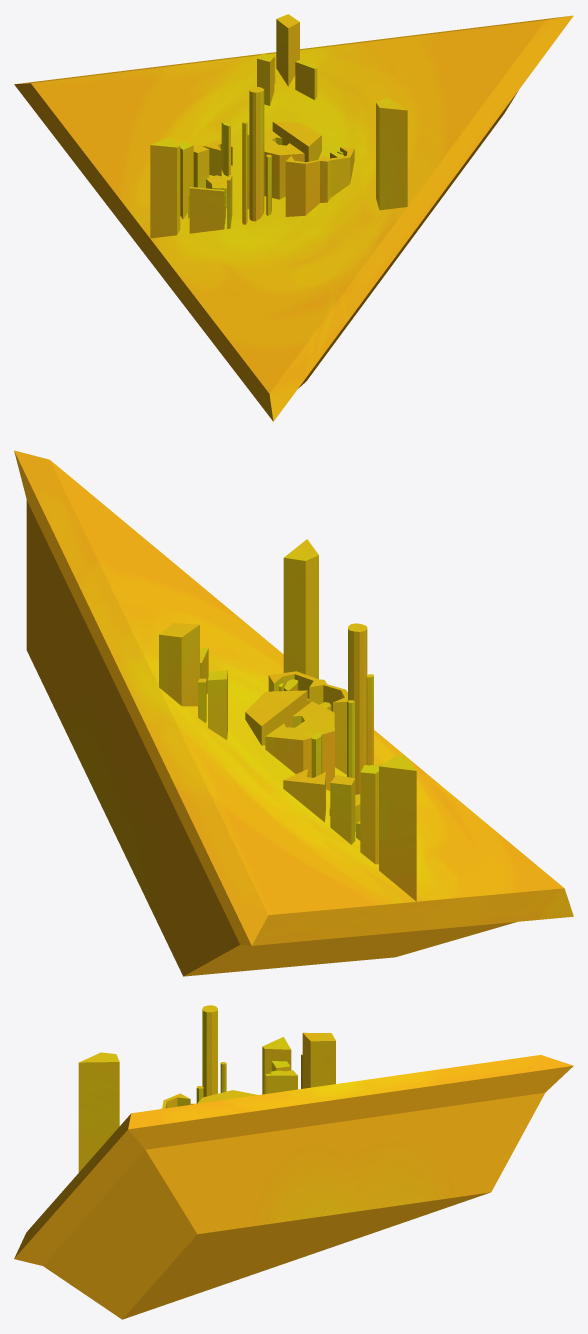
Rendered from city.glb.
3 renders of one model, top to bottom at view 1: azimuth 30°, elevation 25°; view 2: azimuth 150°, elevation 25°; view 3: azimuth 270°, elevation 25°, orthographic. The views are drawn at different scales.
Visible parts, largest first — view 1: city-col; view 2: city-col; view 3: city-col.
Boxes of the visible parts, x1,y1,x2,y2 form: city-col: (14,14,573,421); city-col: (14,450,573,976); city-col: (14,1005,573,1319).
Size of the model in its own units: 3.34 by 2.62 by 3.89.
Materials: 1 (1 with a texture image).
